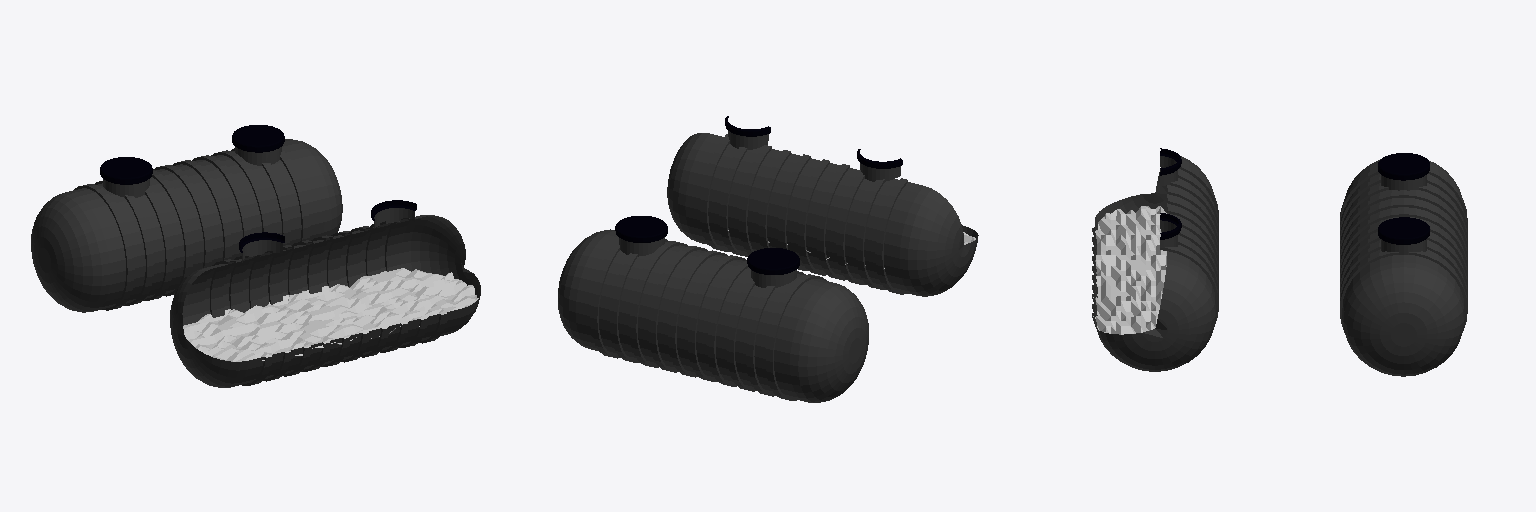
File: water_tank.obj
3 renders of one model, left to right at view 1: azimuth 30°, elevation 25°; view 2: azimuth 150°, elevation 25°; view 3: azimuth 270°, elevation 25°, orthographic.
Parts seen in each view (by area): view 1: Cylinder, Cylinder.001_Cylinder.004, Plane; view 2: Cylinder, Cylinder.001_Cylinder.004; view 3: Cylinder, Cylinder.001_Cylinder.004, Plane.
Boxes of the visible parts, box(x1,y1,x2,y2) form: Cylinder: box(31, 125, 342, 312); Cylinder.001_Cylinder.004: box(170, 200, 480, 387); Plane: box(183, 268, 478, 361); Cylinder: box(558, 216, 868, 402); Cylinder.001_Cylinder.004: box(667, 116, 978, 296); Cylinder: box(1340, 153, 1467, 376); Cylinder.001_Cylinder.004: box(1092, 148, 1218, 371); Plane: box(1093, 206, 1166, 334).
Bounding box in the file's own units: 7.49 × 3.43 × 8.16.